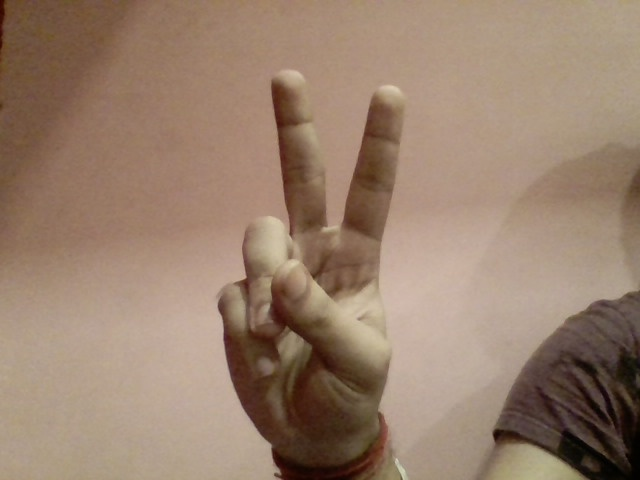v: (196, 62, 416, 451)
